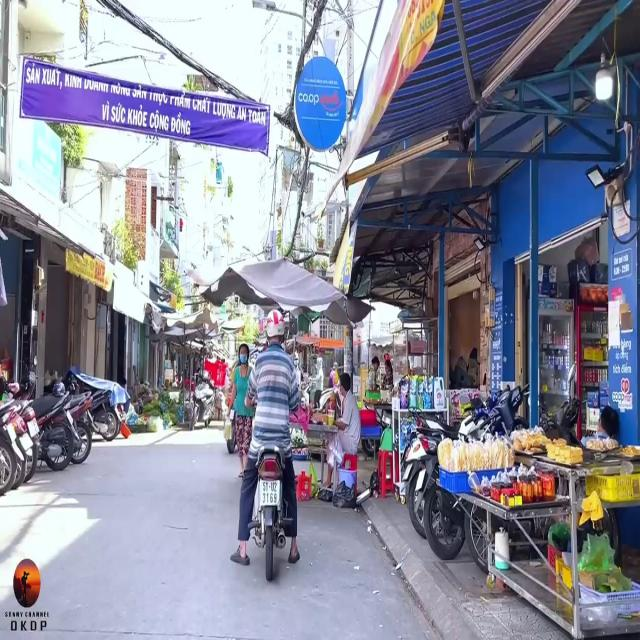bien_trang: (257, 476, 281, 506)
